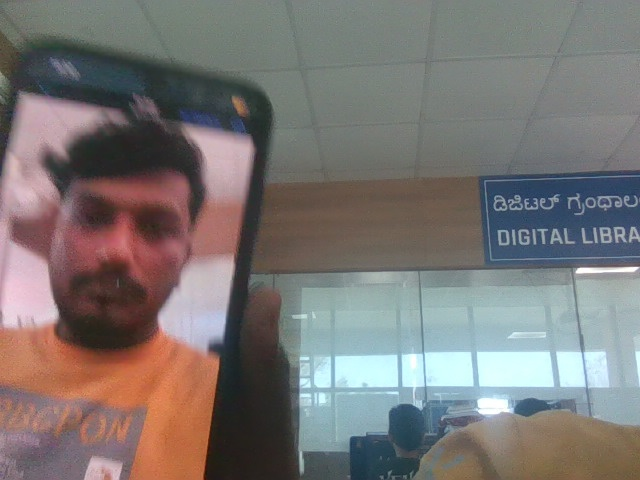fake: (29, 87, 215, 350)
